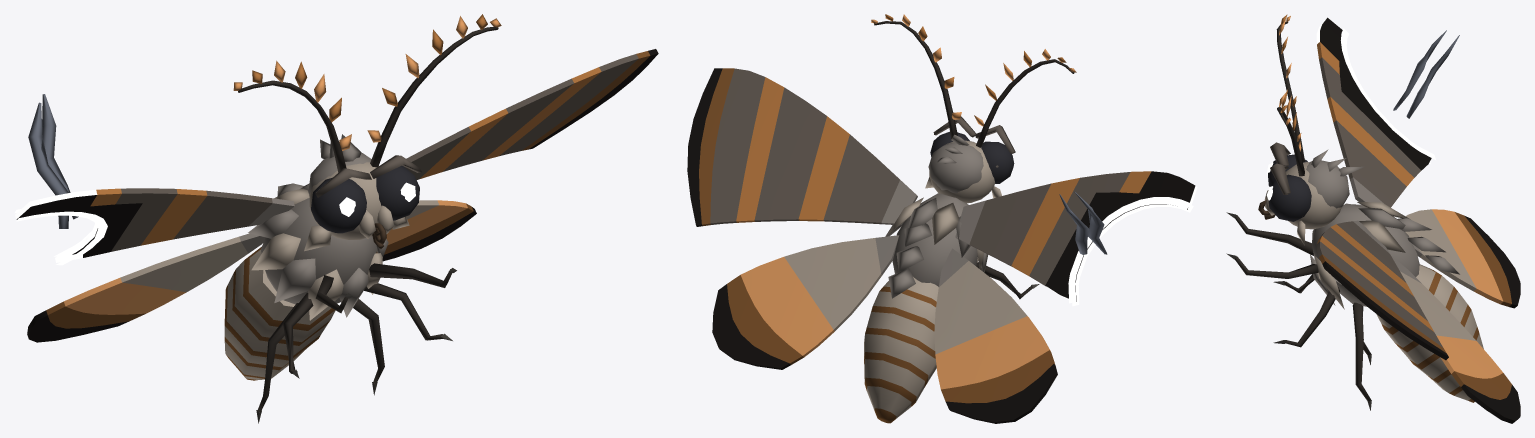
Rendered from moth-singed.glb.
3 views of the same model, side by side, from view 1: azimuth 30°, elevation 25°; view 2: azimuth 150°, elevation 25°; view 3: azimuth 270°, elevation 25° (orthographic). The views are drawn at different scales.
Parts seen in each view (by area): view 1: beat_wing_r, body, beat_wing_l, pulse_abdomen, turn_head, sway_feeler_l, blink_eye_r, sway_smoke, sway_feeler_r, blink_eye_l; view 2: beat_wing_l, beat_wing_r, pulse_abdomen, body, turn_head, sway_feeler_l, sway_feeler_r, sway_smoke, blink_eye_r; view 3: beat_wing_r, beat_wing_l, body, turn_head, pulse_abdomen, blink_eye_l, sway_smoke, sway_feeler_r, sway_feeler_l.
Boxes of the visible parts, x1,y1,x2,y2 form: beat_wing_r: [14, 188, 294, 342]; body: [248, 183, 456, 423]; beat_wing_l: [376, 49, 658, 261]; pulse_abdomen: [224, 247, 335, 380]; turn_head: [304, 134, 421, 251]; sway_feeler_l: [367, 14, 501, 167]; blink_eye_r: [311, 177, 366, 233]; sway_smoke: [28, 94, 78, 228]; sway_feeler_r: [233, 60, 351, 172]; blink_eye_l: [376, 165, 419, 220]; beat_wing_l: [687, 68, 917, 369]; beat_wing_r: [934, 171, 1197, 423]; pulse_abdomen: [864, 277, 938, 423]; body: [885, 193, 1039, 299]; turn_head: [925, 116, 1015, 203]; sway_feeler_l: [871, 14, 961, 140]; sway_feeler_r: [974, 49, 1076, 147]; sway_smoke: [1059, 192, 1107, 254]; blink_eye_r: [981, 141, 1014, 183]; beat_wing_r: [1316, 17, 1520, 308]; beat_wing_l: [1316, 220, 1520, 423]; body: [1226, 202, 1459, 410]; turn_head: [1258, 142, 1364, 245]; pulse_abdomen: [1376, 264, 1483, 402]; blink_eye_l: [1266, 174, 1311, 221]; sway_smoke: [1393, 30, 1459, 118]; sway_feeler_r: [1276, 14, 1304, 162]; sway_feeler_l: [1277, 89, 1304, 176].
Size of the model in its own units: 0.9203 by 0.5921 by 0.456.
